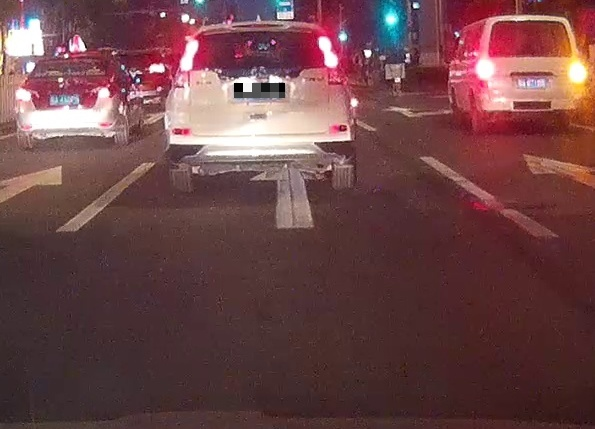L_light: (172, 37, 199, 89), (475, 59, 496, 81), (567, 62, 586, 85), (15, 87, 31, 102)
R_light: (317, 35, 344, 84), (98, 84, 118, 99)
T_light: (232, 23, 284, 28), (520, 21, 538, 24), (62, 58, 80, 61)
night-no: (164, 21, 356, 193), (475, 15, 586, 134), (14, 51, 119, 148)
plate_1: (234, 83, 285, 98)
